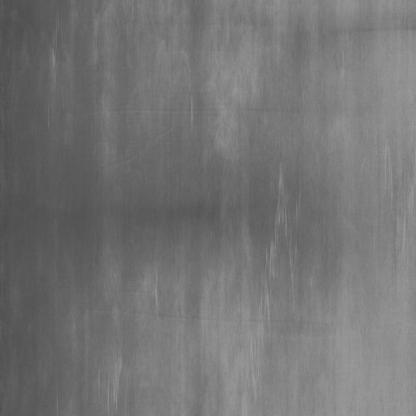silk_spot: (236, 156, 300, 366), (374, 136, 405, 268), (121, 258, 177, 330), (86, 328, 123, 410)
